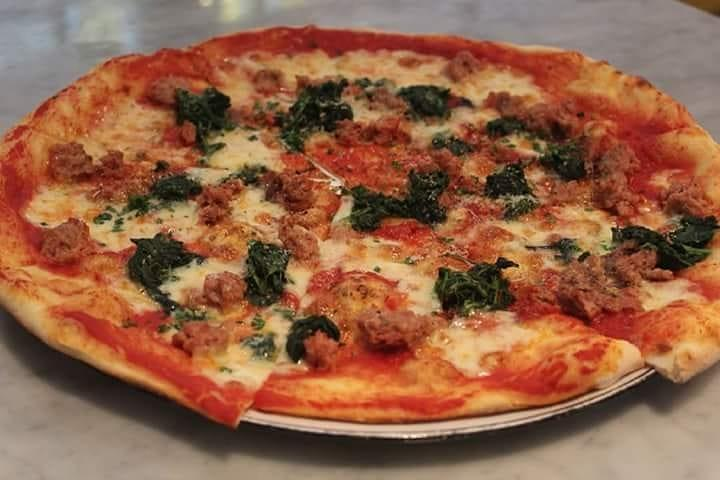Arugula: (122, 227, 205, 329), (343, 165, 452, 236), (606, 211, 720, 271), (267, 75, 357, 149), (424, 254, 520, 318), (115, 165, 206, 220), (170, 83, 236, 153), (233, 237, 293, 313), (396, 77, 477, 125), (479, 157, 537, 221), (281, 310, 345, 364), (536, 132, 590, 183), (428, 129, 482, 163), (485, 108, 531, 146)
Pizza: (0, 23, 720, 429)
